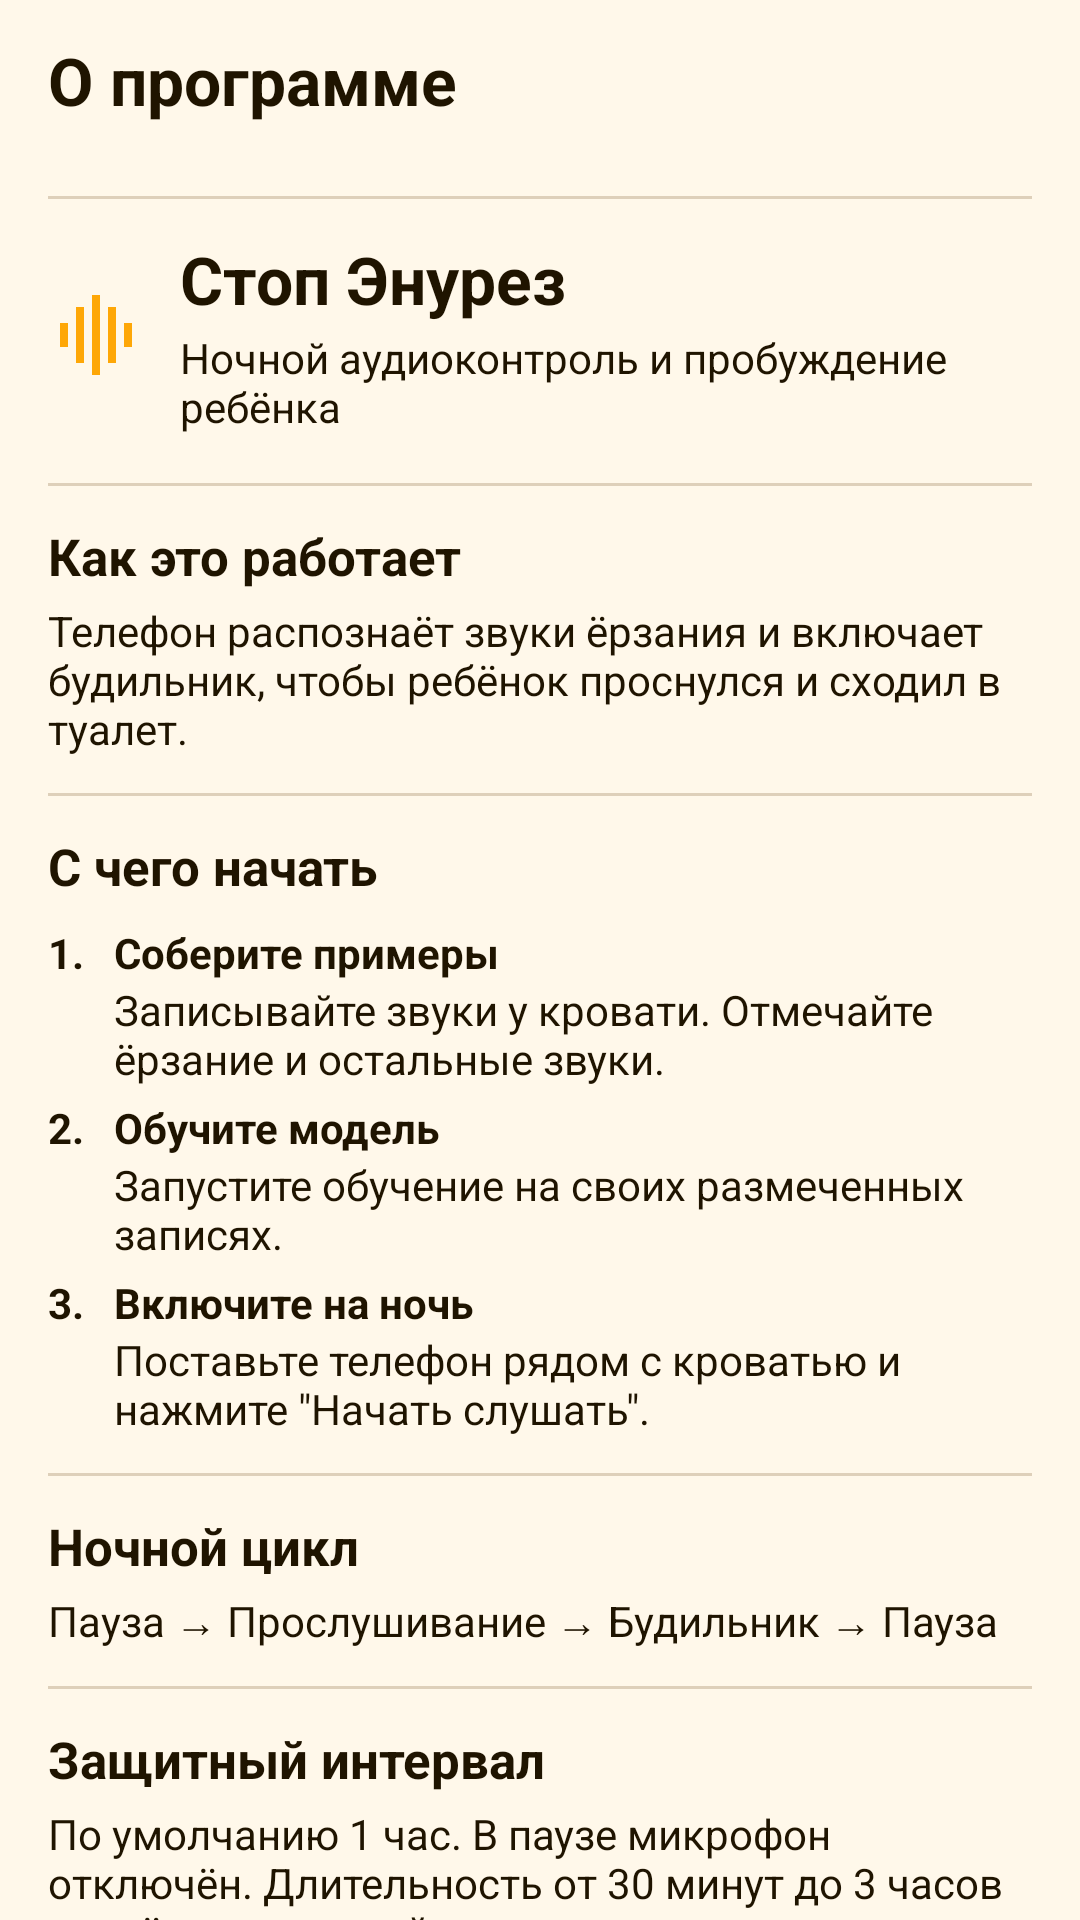

Point at icon controls on the screen. Image size 1080w x 1920h, points as (x=x, y=y).
wave: (x=96, y=335)
